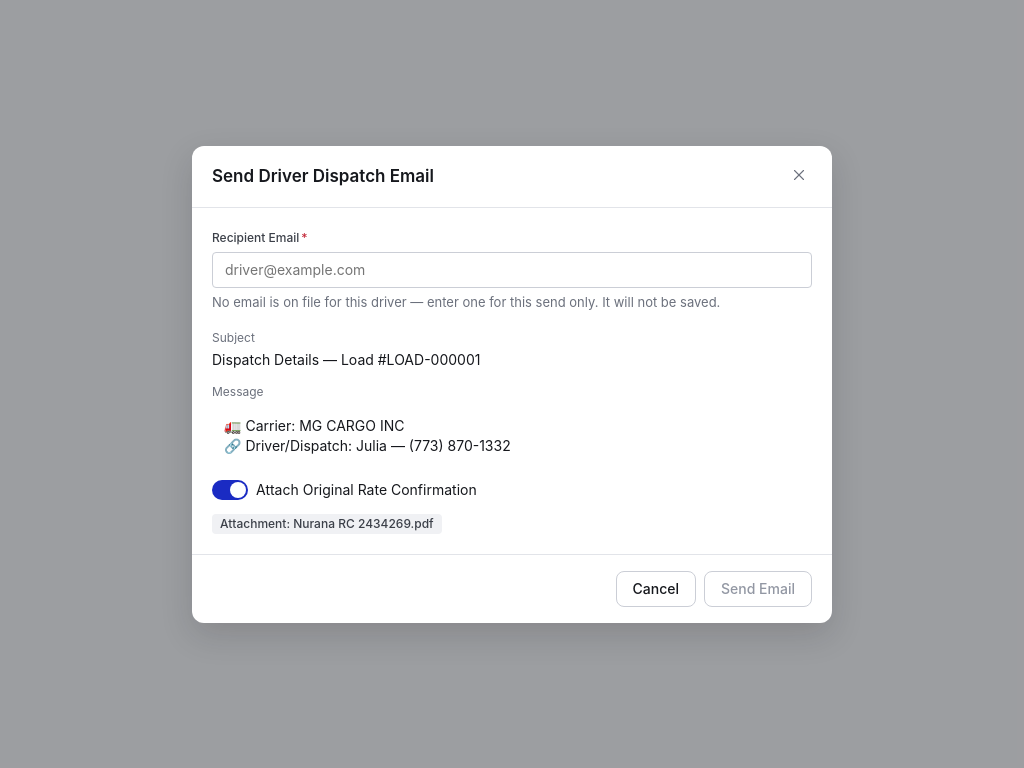
Test: SendDriverDispatchEmailModal — Driver Dispatch Email feature › rejects an invalid manually entered email and does not send
This screenshot has width=1024, height=768.
Step 1. Type "not-an-email" into the field labelled "Recipient Email*" → {"x": 512, "y": 270}, box [212, 252, 812, 288]
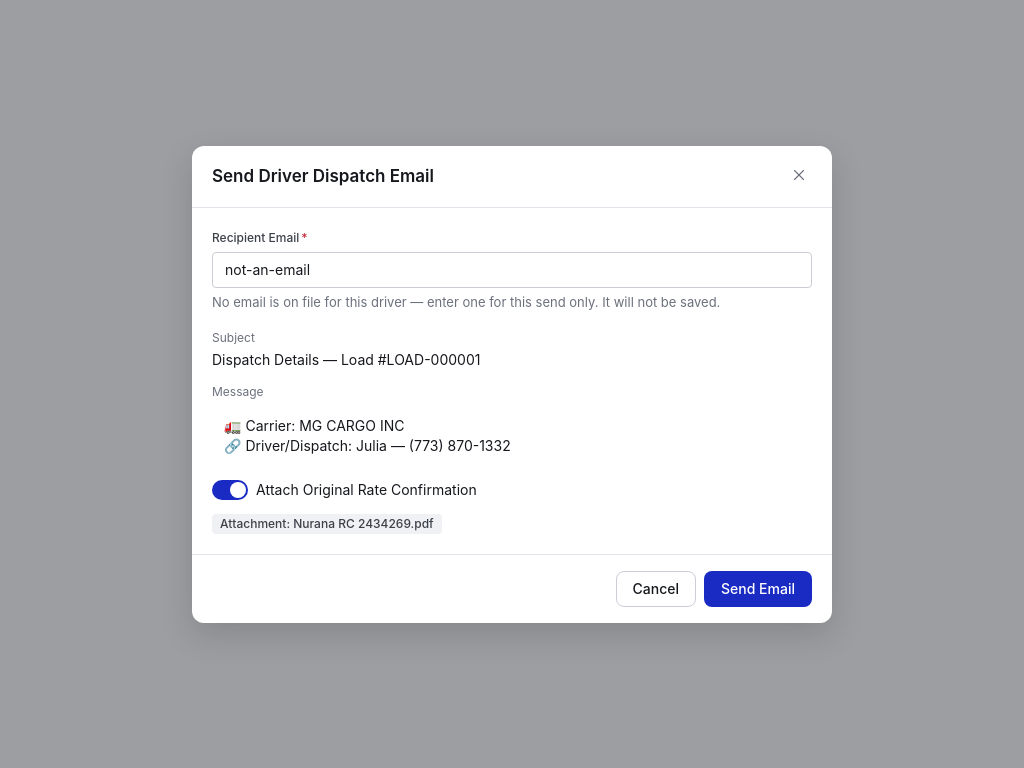
Step 2. Click the button "Send Email" → {"x": 758, "y": 588}, box [704, 570, 812, 606]
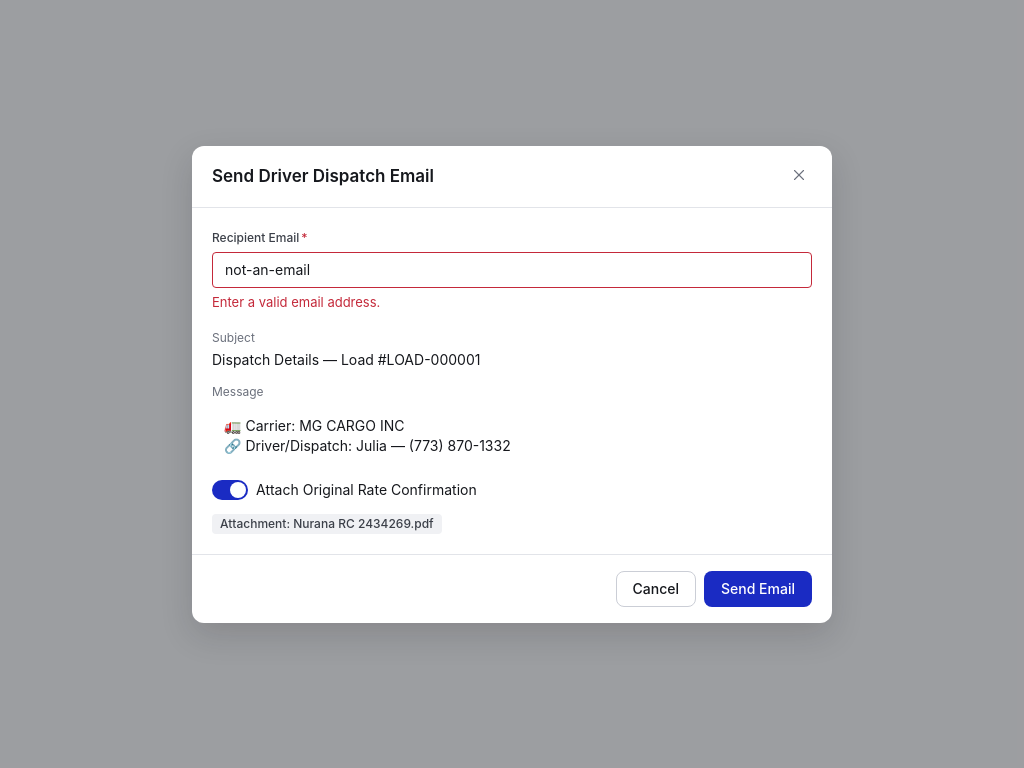
Now the text "Enter a valid email address." is shown, box [212, 294, 380, 310]
